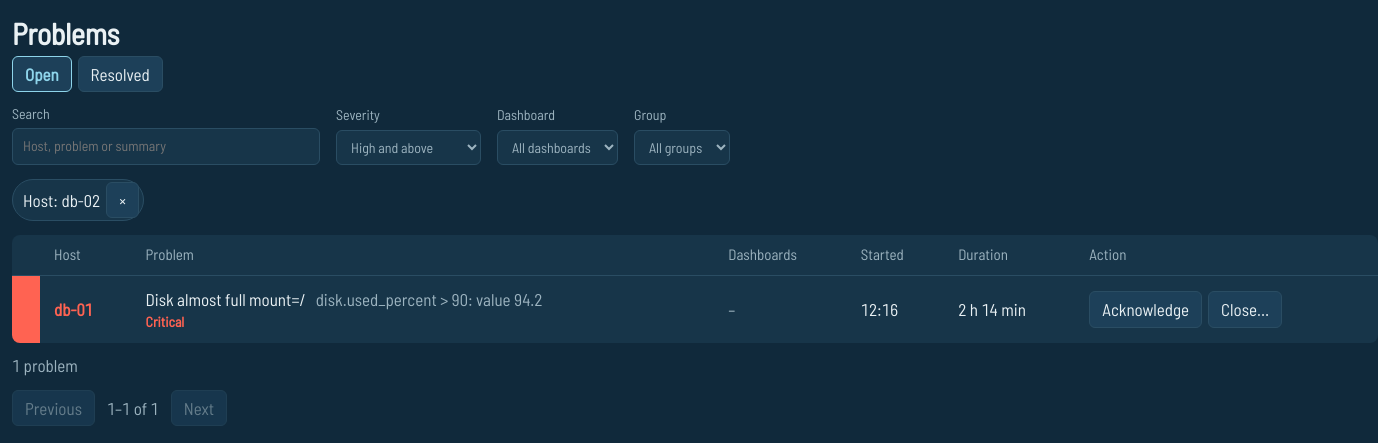
Scenario: tabs and filters › shows the host filter as a chip and removes it
Check: the text "Host: db-02" is shown, box [23, 190, 100, 210]
What coordinates should you click on to do the following:
click the button named "Remove host filter"
I would click on:
 (123, 200)
Its box is [106, 182, 139, 218].
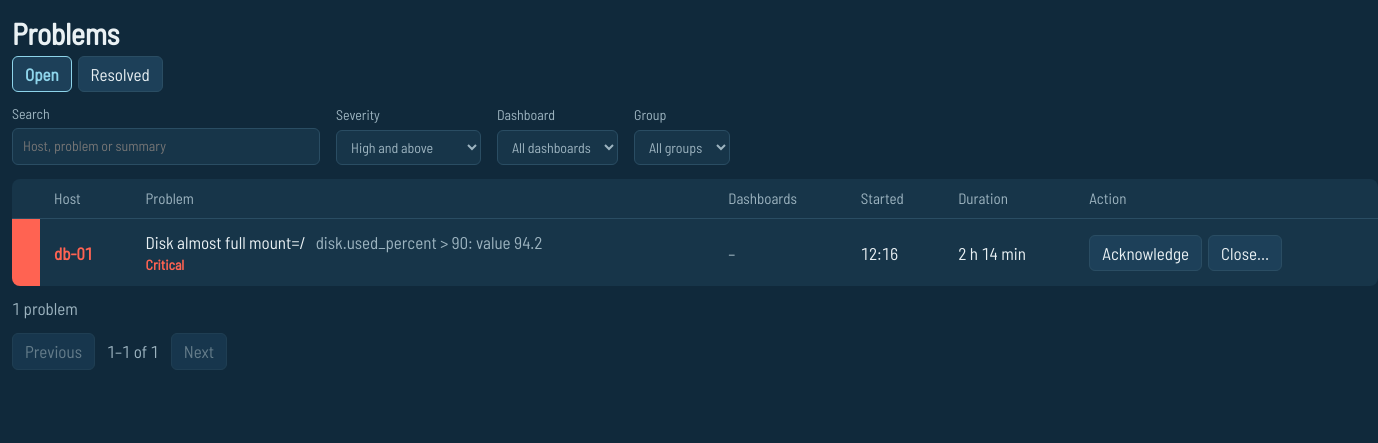
Check: the text "Host: db-02" is gone
